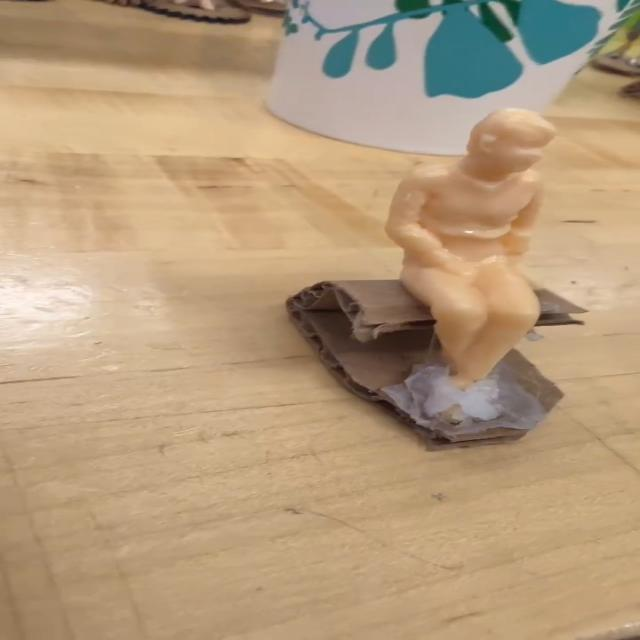Unauthorized: (331, 94, 626, 414)
